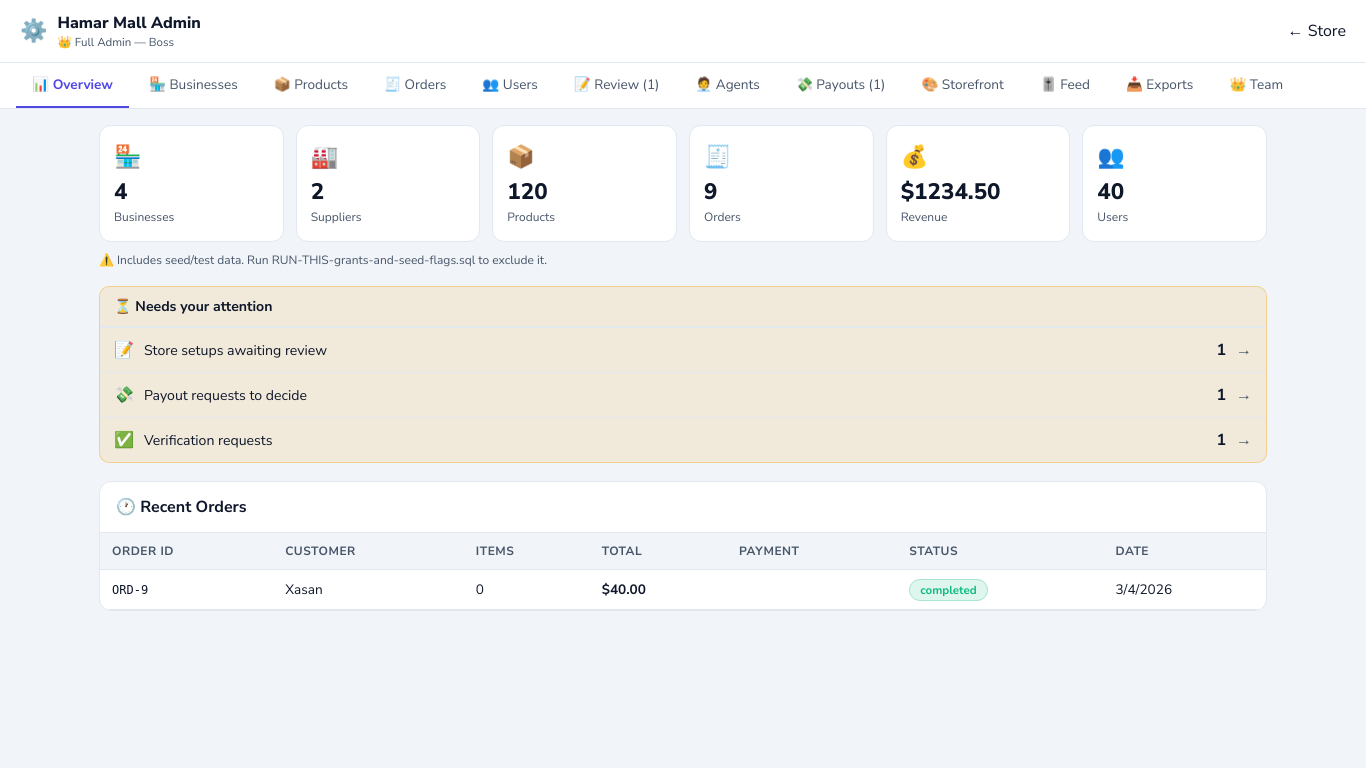
Scenario: businesses › lists stores with verification state
The image size is (1366, 768).
Step 1. Click the button "🏪 Businesses" → [193, 86], box [133, 63, 254, 108]
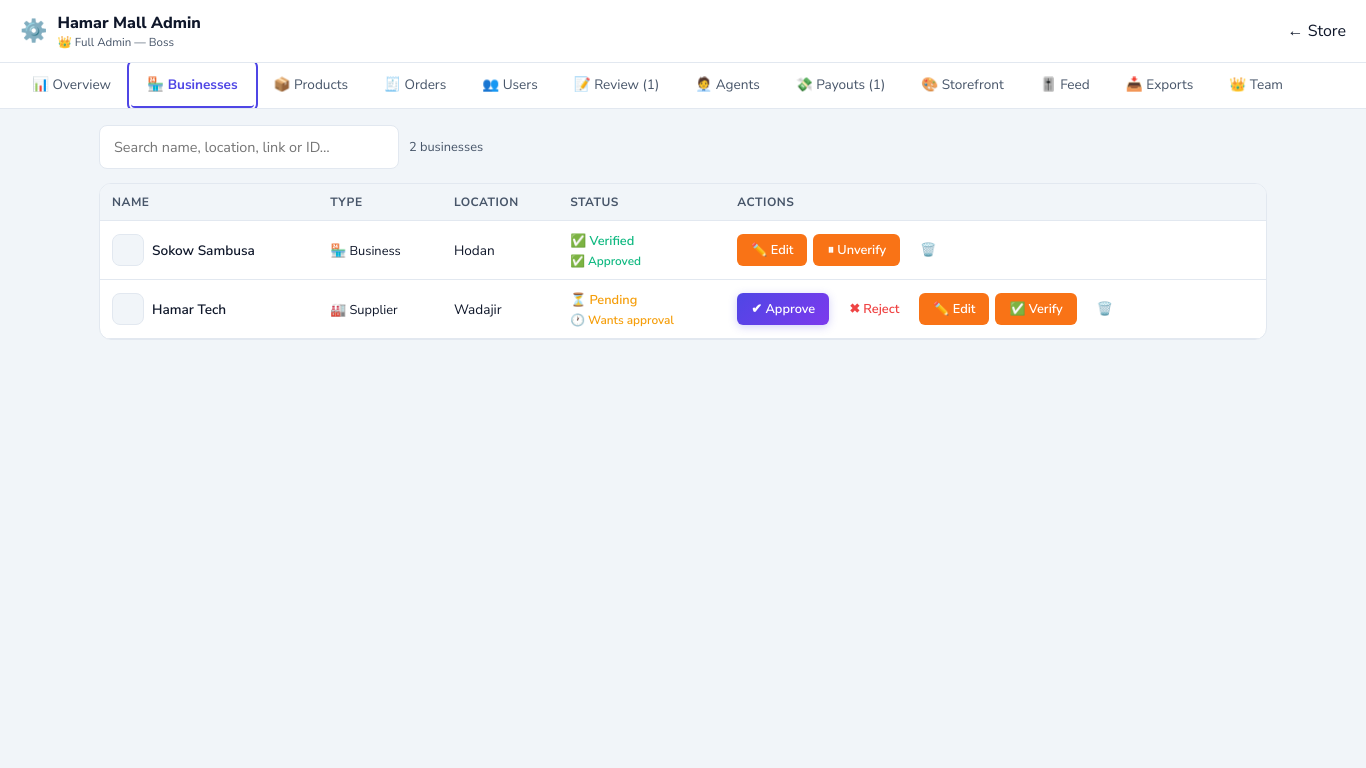
expect the text "Sokow Sambusa" is shown: met, box [152, 240, 255, 260]
expect the text "Hamar Tech" is shown: met, box [152, 300, 226, 318]
